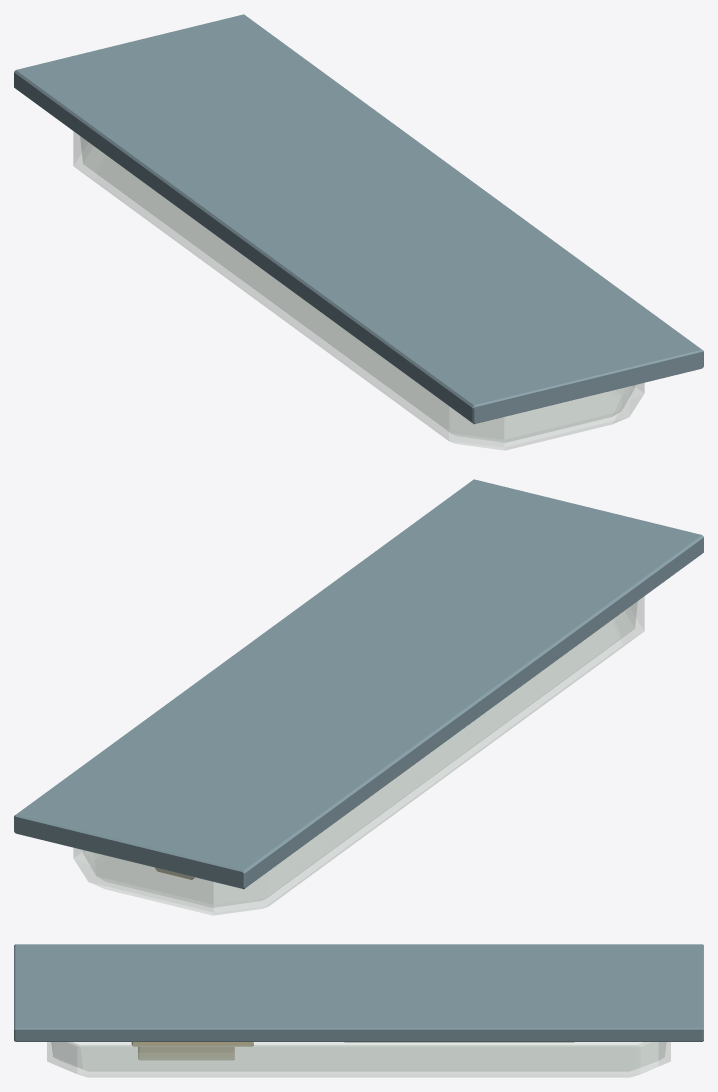
Rendered from toothbrush.glb.
3 views of the same model, one above another, from view 1: azimuth 30°, elevation 25°; view 2: azimuth 150°, elevation 25°; view 3: azimuth 270°, elevation 25° (orthographic). The views are drawn at different scales.
Visible parts, largest first — view 1: toothbrush; view 2: toothbrush; view 3: toothbrush.
Part boxes in pixels (x1,y1,x2,y2): toothbrush: [14, 14, 703, 450]; toothbrush: [14, 479, 703, 915]; toothbrush: [14, 944, 703, 1077].
Size of the model in its own units: 0.064 by 0.0225 by 0.22.
